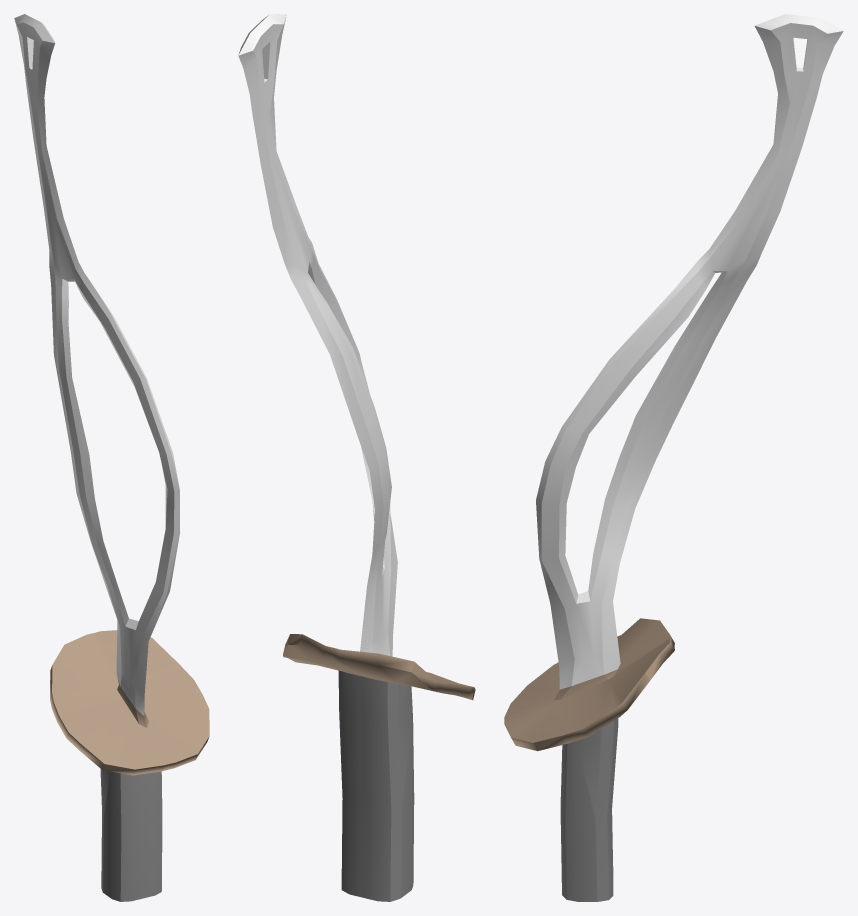
Rendered from PropSwordFBXExport.fbx.
The picture shows the model from 3 angles, left to right: view 1: azimuth 30°, elevation 25°; view 2: azimuth 150°, elevation 25°; view 3: azimuth 270°, elevation 25°; orthographic projection. The views are drawn at different scales.
Parts seen in each view (by area): view 1: pCube1; view 2: pCube1; view 3: pCube1.
Boxes of the visible parts, x1,y1,x2,y2 form: pCube1: (14,14,209,901); pCube1: (238,14,475,901); pCube1: (504,14,843,901).
Bounding box in the file's own units: 1.89 × 10.38 × 3.65.
